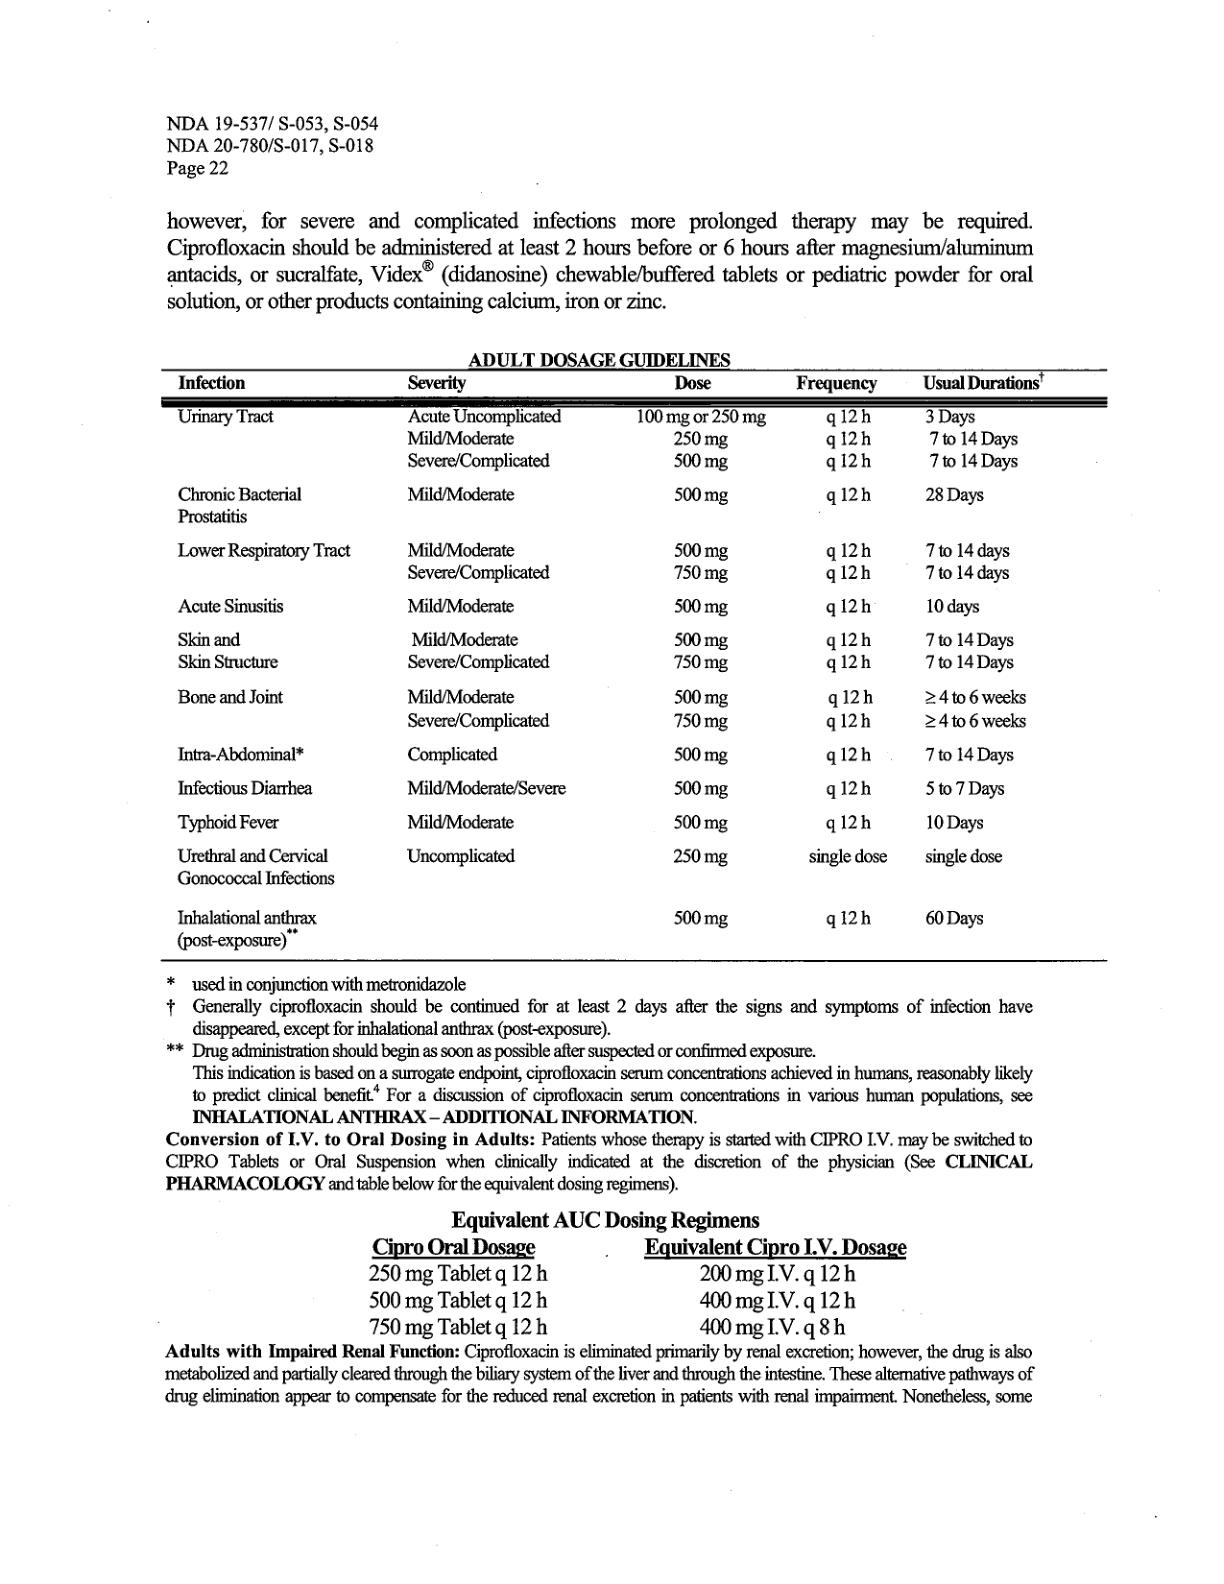nolines: (366, 1234, 910, 1341)
partial_lined: (159, 366, 1108, 962)
